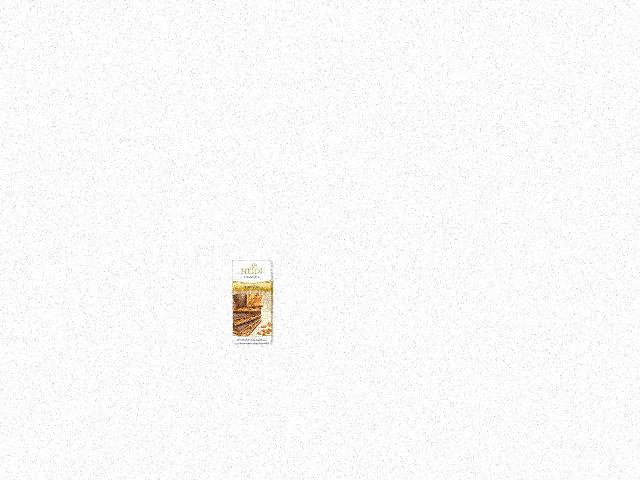chocolate: (224, 255, 289, 347)
